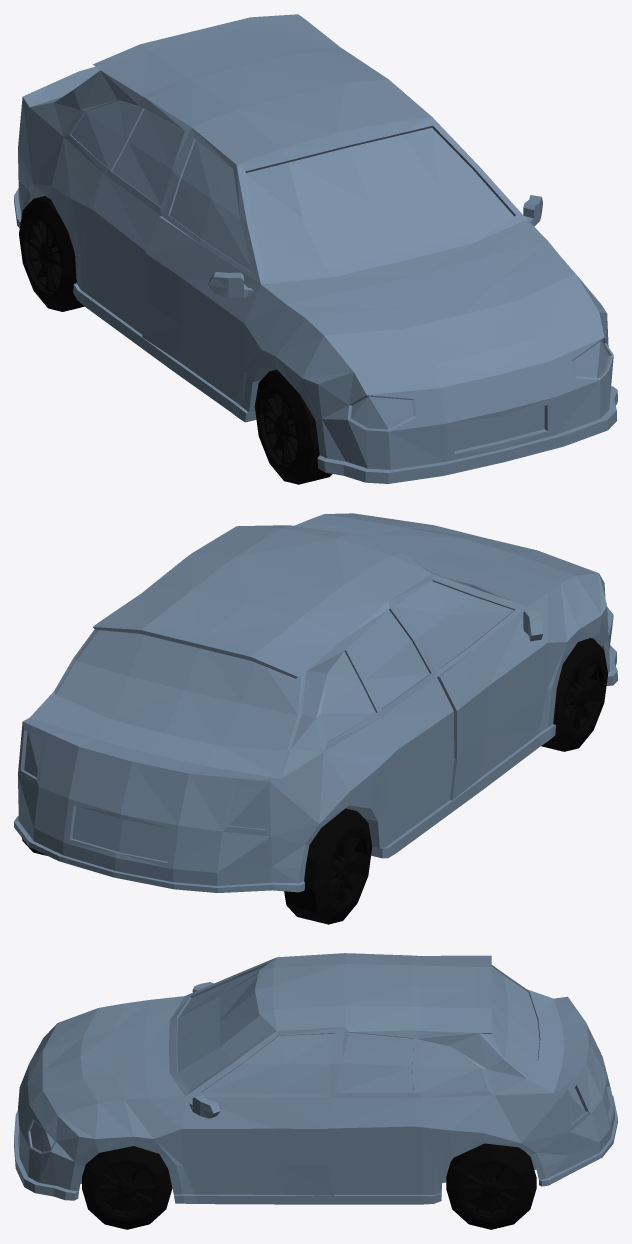
File: normalcar2.glb
The picture shows the model from 3 angles, top to bottom: view 1: azimuth 30°, elevation 25°; view 2: azimuth 150°, elevation 25°; view 3: azimuth 270°, elevation 25°; orthographic projection. The views are drawn at different scales.
Parts seen in each view (by area): view 1: NormalCar2_Cube.002, NormalCar2_FrontRightWheel_Cylinder.016, NormalCar2_BackWheels_Cylinder.003; view 2: NormalCar2_Cube.002, NormalCar2_BackWheels_Cylinder.003, NormalCar2_FrontRightWheel_Cylinder.016; view 3: NormalCar2_Cube.002, NormalCar2_BackWheels_Cylinder.003, NormalCar2_FrontLeftWheel_Cylinder.015.
Part boxes in pixels (x1,y1,x2,y2): NormalCar2_Cube.002: (14,14,617,483); NormalCar2_FrontRightWheel_Cylinder.016: (254,369,332,484); NormalCar2_BackWheels_Cylinder.003: (19,196,84,311); NormalCar2_Cube.002: (14,513,617,892); NormalCar2_BackWheels_Cylinder.003: (22,808,372,924); NormalCar2_FrontRightWheel_Cylinder.016: (541,638,607,751); NormalCar2_Cube.002: (14,953,617,1204); NormalCar2_BackWheels_Cylinder.003: (446,1143,536,1229); NormalCar2_FrontLeftWheel_Cylinder.015: (82,1146,172,1229).
Size of the model in its own units: 1.64 by 1.15 by 3.31.
